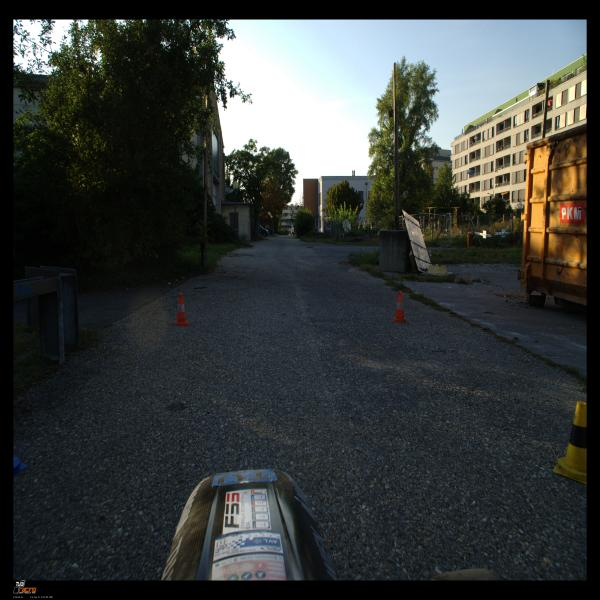orange_cone: (391, 291, 409, 323), (174, 293, 189, 326)
yellow_cone: (553, 401, 587, 485)
